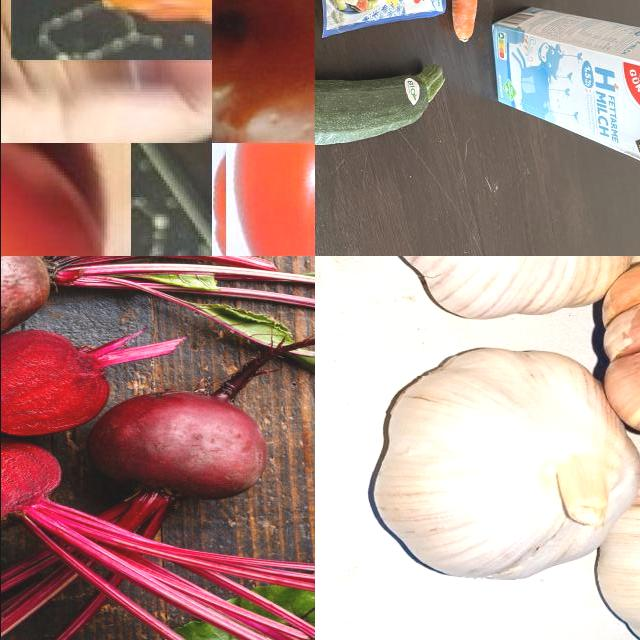beet: (92, 392, 262, 504), (1, 332, 101, 436), (1, 443, 68, 524)
carrot: (441, 1, 498, 63)
garlic: (363, 343, 640, 583), (366, 257, 638, 322)
tomato: (14, 1, 212, 64), (212, 144, 315, 257)
zucchini: (315, 65, 450, 159)
